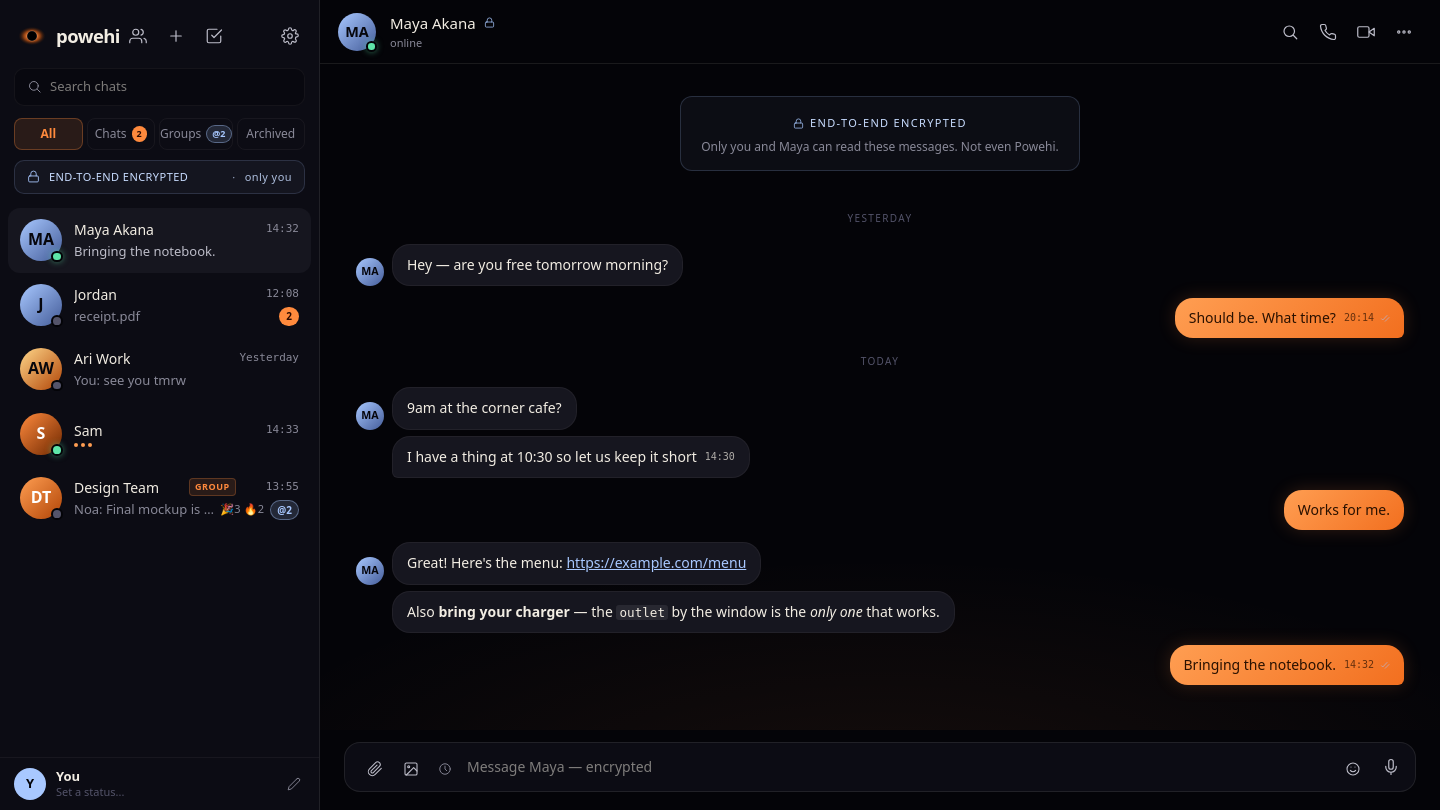
ChatLayout — custom user status › clicking a preset populates the emoji and text inputs
The image size is (1440, 810).
Click the button with test id "user-status-edit-btn". click: (294, 784)
box: top-left (283, 773), bottom-right (305, 795)
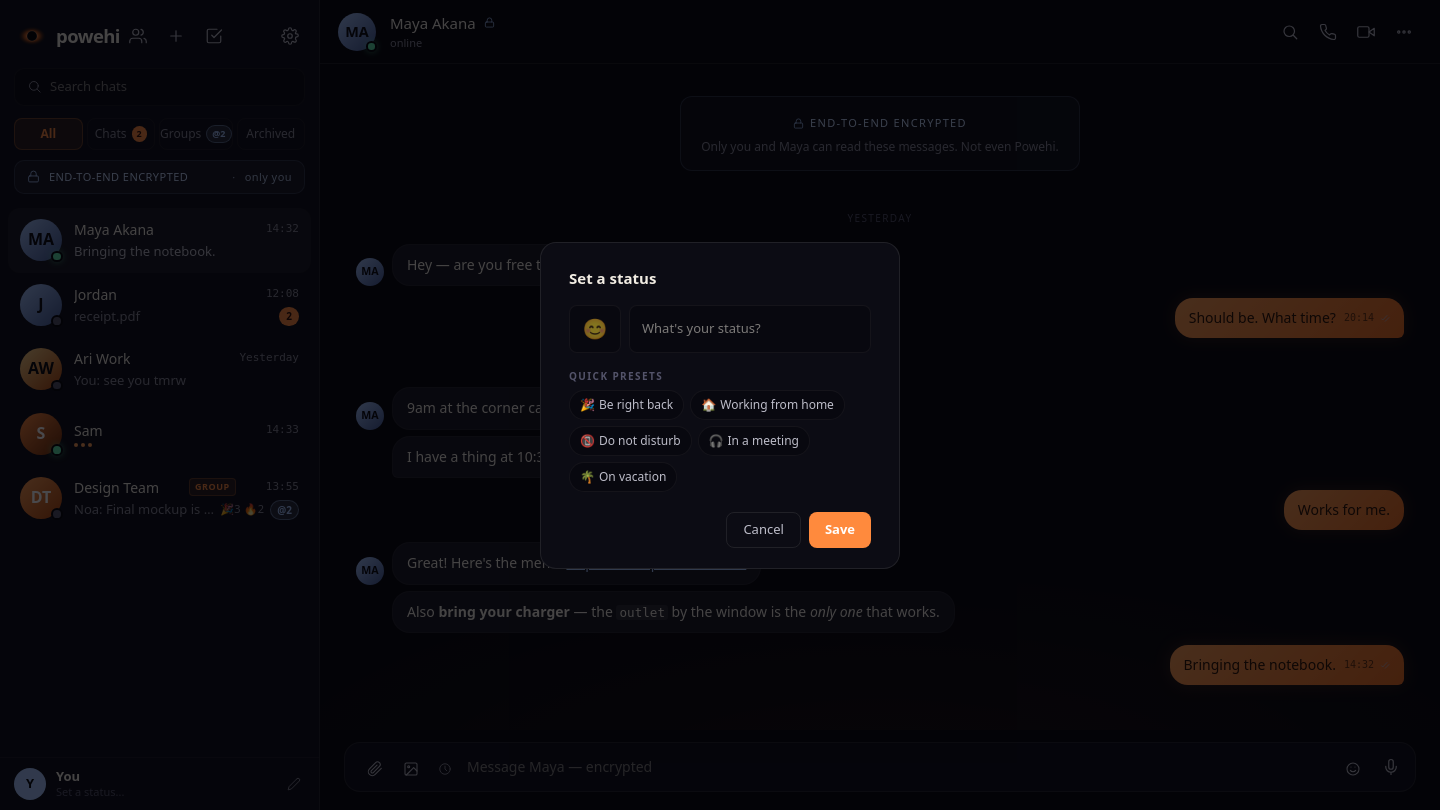
Click the button with test id "status-preset-working-from-home". click: (768, 405)
box: top-left (690, 390), bottom-right (845, 420)
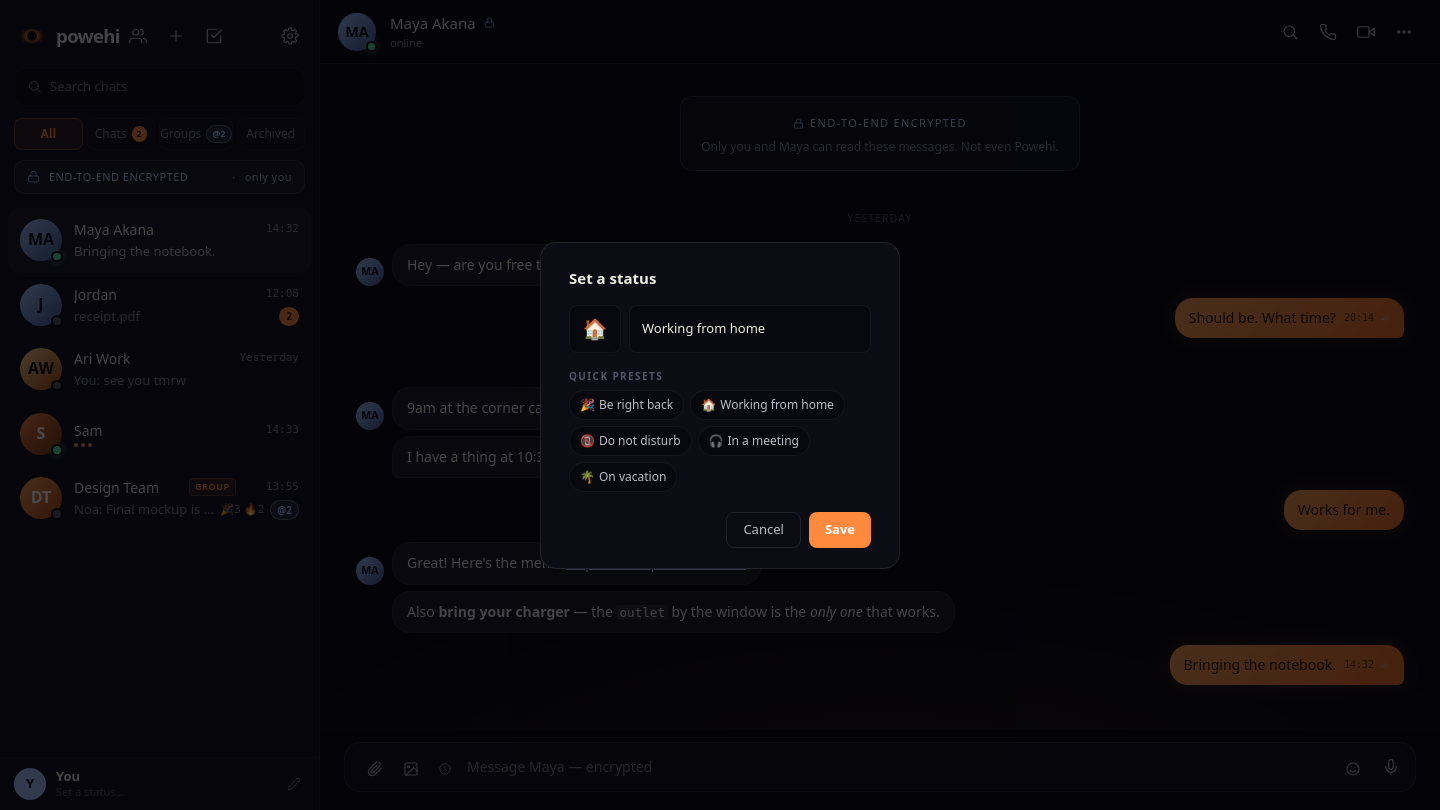
expect the field with test id "status-emoji-input" holds "🏠": met, box top-left (569, 305), bottom-right (621, 353)
expect the field with test id "status-text-input" holds "Working from home": met, box top-left (629, 305), bottom-right (871, 353)
